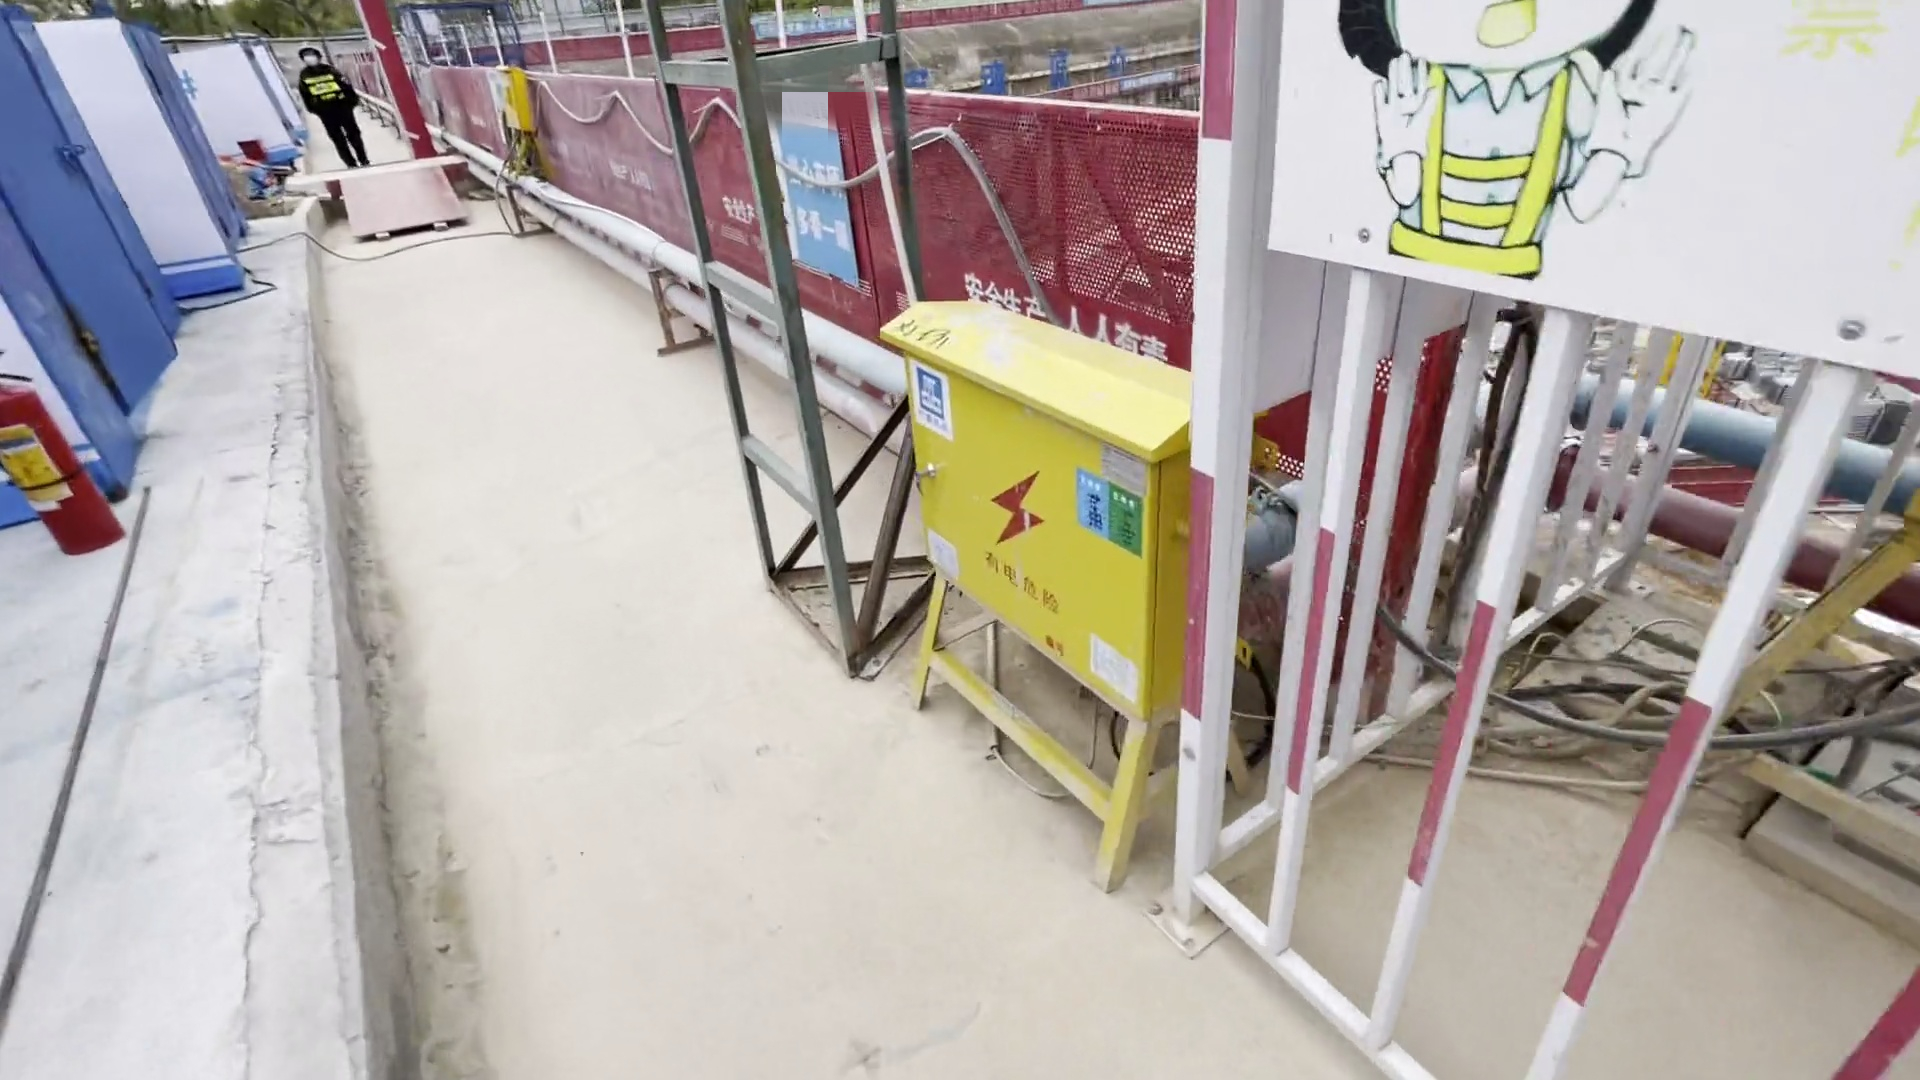board: (331, 164, 477, 251)
ebox: (850, 270, 1254, 899), (483, 59, 549, 173)
fence: (406, 65, 1211, 393), (511, 32, 731, 76)
helmet: (294, 43, 325, 58)
person: (278, 31, 379, 172)
slogan: (1215, 1, 1920, 413), (740, 91, 867, 297), (2, 416, 85, 554), (737, 8, 865, 43)
vest: (292, 64, 347, 114)
